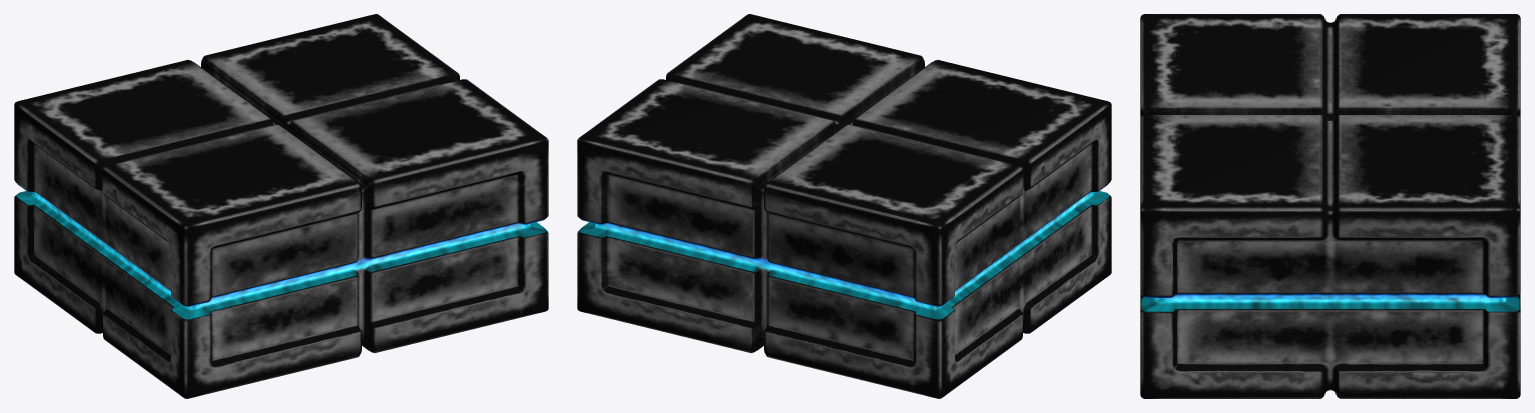
Rendered from originalObstacle.fbx.
3 renders of one model, left to right at view 1: azimuth 30°, elevation 25°; view 2: azimuth 150°, elevation 25°; view 3: azimuth 270°, elevation 25°, orthographic. The views are drawn at different scales.
Visible parts, largest first — view 1: Cube; view 2: Cube; view 3: Cube.
Boxes of the visible parts, x1,y1,x2,y2 form: Cube: (14,14,548,398); Cube: (577,14,1111,398); Cube: (1140,14,1520,398).
Bounding box in the file's own units: 360 × 440 × 200.
